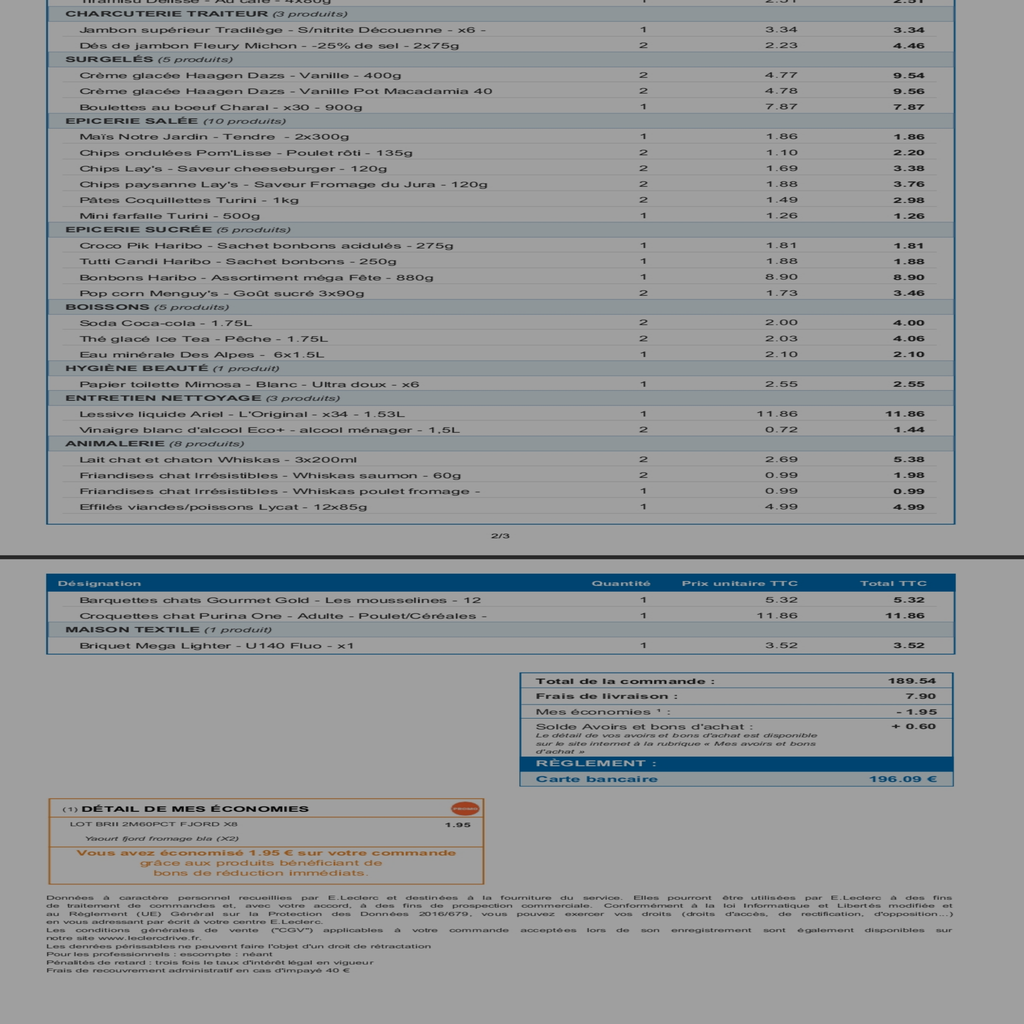recipt: (0, 0, 1024, 1024)
